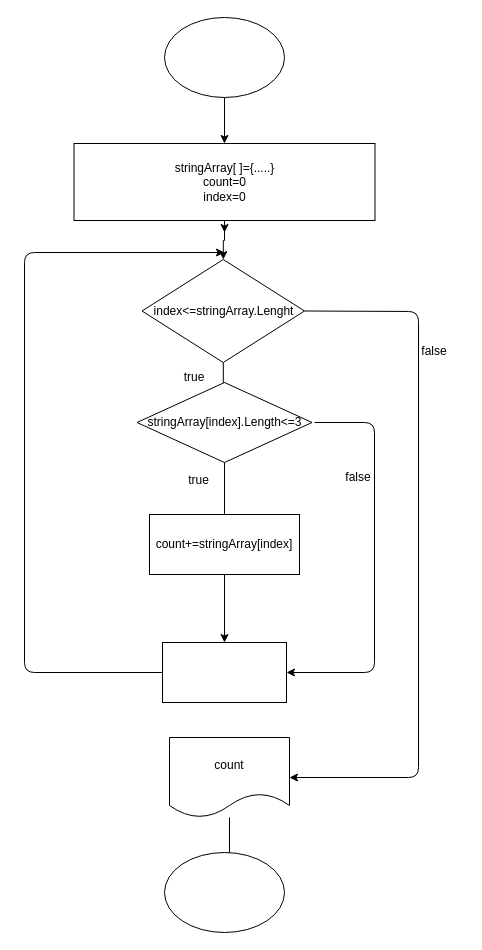
Some shapes in this 482 by 950 pixel diagram are drawn without their labels. Each missing label, with the centre of its shape:
"end" belongs at (224,892).
"index++" belongs at (224,672).
"start" belongs at (224,57).
